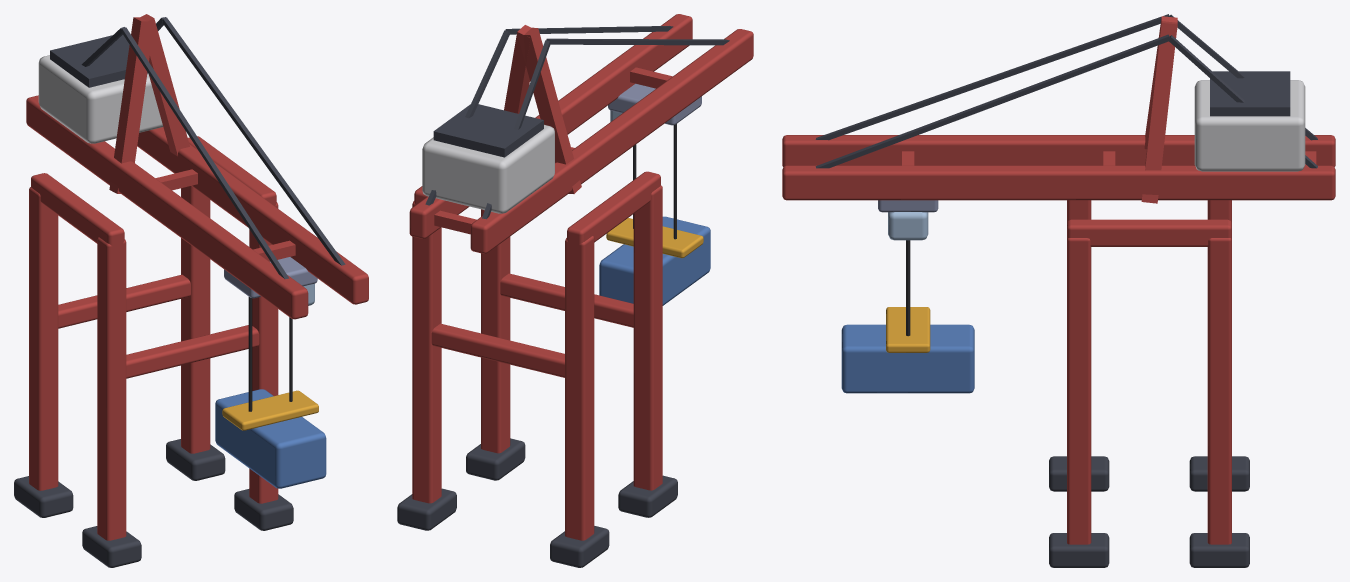
The model's file is guindaste-porto.glb.
3 renders of one model, left to right at view 1: azimuth 30°, elevation 25°; view 2: azimuth 150°, elevation 25°; view 3: azimuth 270°, elevation 25°, orthographic. The views are drawn at different scales.
Visible parts, largest first — view 1: modelo; view 2: modelo; view 3: modelo.
Boxes of the visible parts, <box> form: modelo: <box>14,14,368,567</box>; modelo: <box>397,14,753,567</box>; modelo: <box>782,14,1335,567</box>.
Size of the model in its own units: 2.09 by 5.25 by 5.23.
